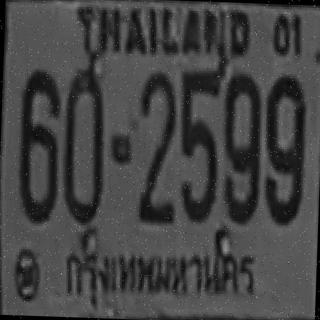N00: (61, 68, 105, 223), (222, 71, 260, 164)
N02: (136, 69, 178, 196), (136, 100, 177, 222), (136, 109, 178, 221)
N05: (179, 68, 221, 157)
N09: (262, 77, 306, 223), (220, 74, 262, 222), (262, 89, 305, 223), (220, 90, 262, 222)
P04: (56, 234, 264, 309)
